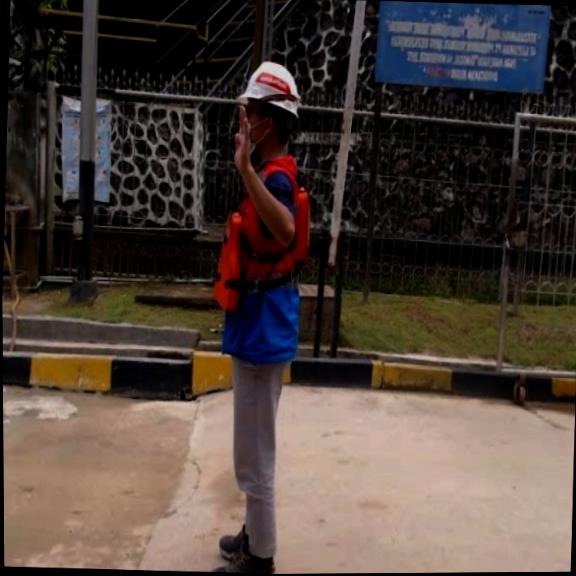safety_vest: (208, 182, 315, 320)
